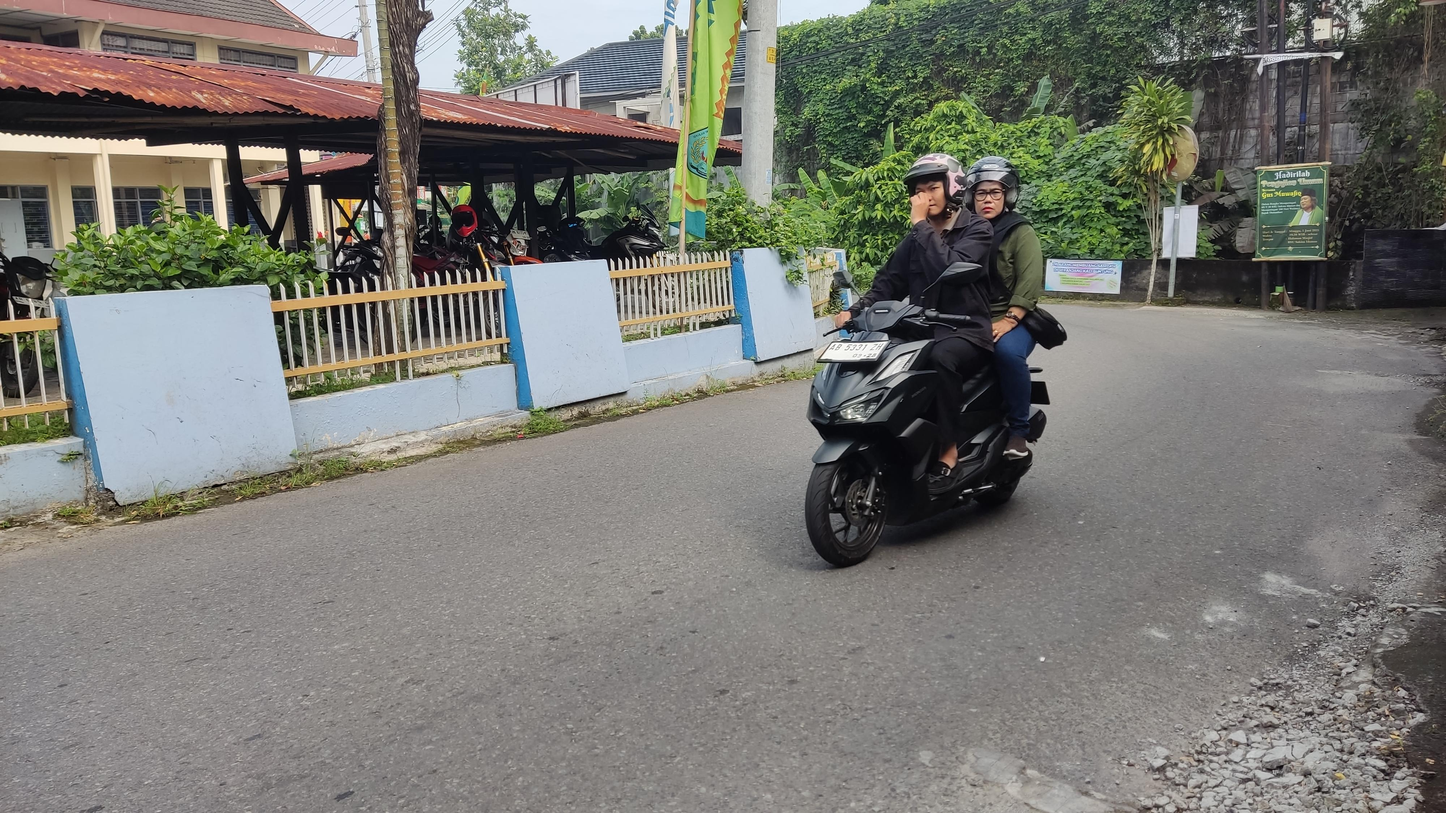helm: (903, 142, 971, 234), (971, 149, 1028, 229)
riding: (788, 137, 1071, 575)
